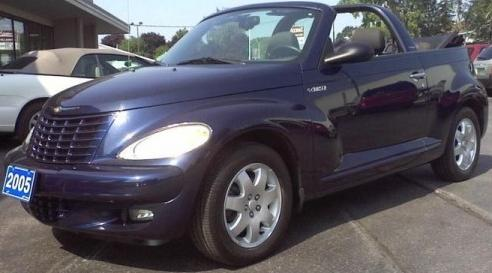front_view: (7, 83, 245, 253)
headlight: (133, 116, 217, 169)
side_glass: (310, 3, 414, 57)
